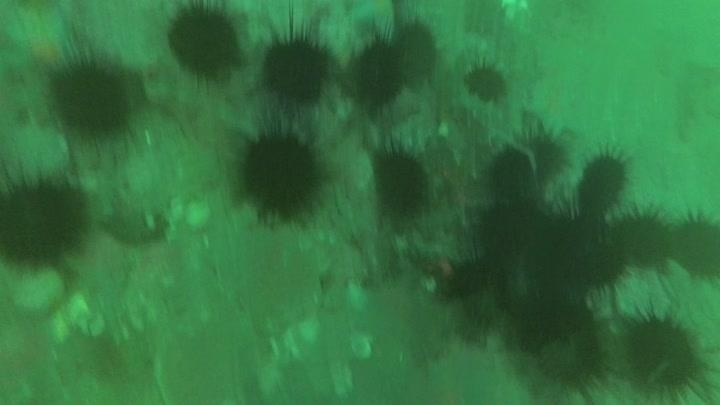echinus: (1, 169, 91, 268), (536, 208, 631, 293), (620, 311, 709, 400), (237, 129, 324, 220), (48, 54, 134, 139), (527, 309, 609, 391), (165, 4, 243, 80), (260, 31, 334, 105), (368, 145, 432, 219), (507, 287, 579, 352), (347, 36, 410, 109), (443, 250, 511, 316), (474, 197, 545, 259), (608, 206, 676, 270), (575, 148, 632, 214), (668, 209, 720, 281), (391, 19, 441, 83), (486, 146, 539, 200), (523, 124, 575, 173), (462, 60, 510, 105)
scallop: (154, 322, 262, 405), (1, 116, 71, 187), (6, 260, 64, 316)
starfish: (419, 342, 535, 405), (2, 7, 79, 79), (524, 76, 584, 138), (348, 1, 398, 43)
